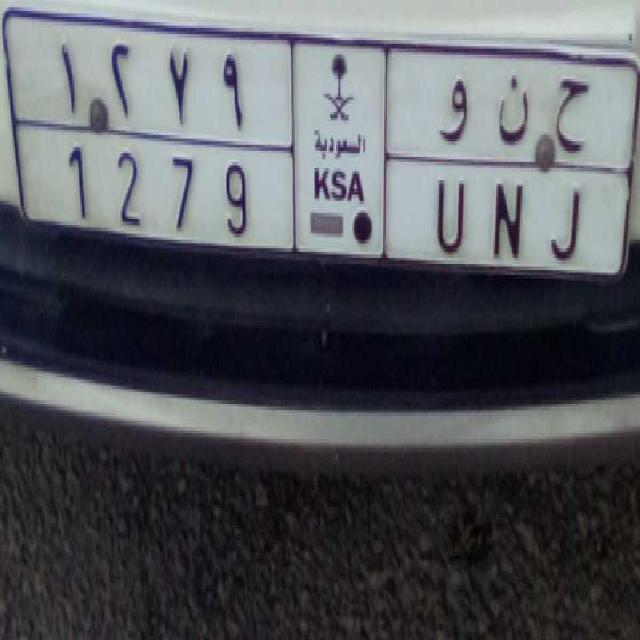license_plate: (44, 124, 594, 288)
